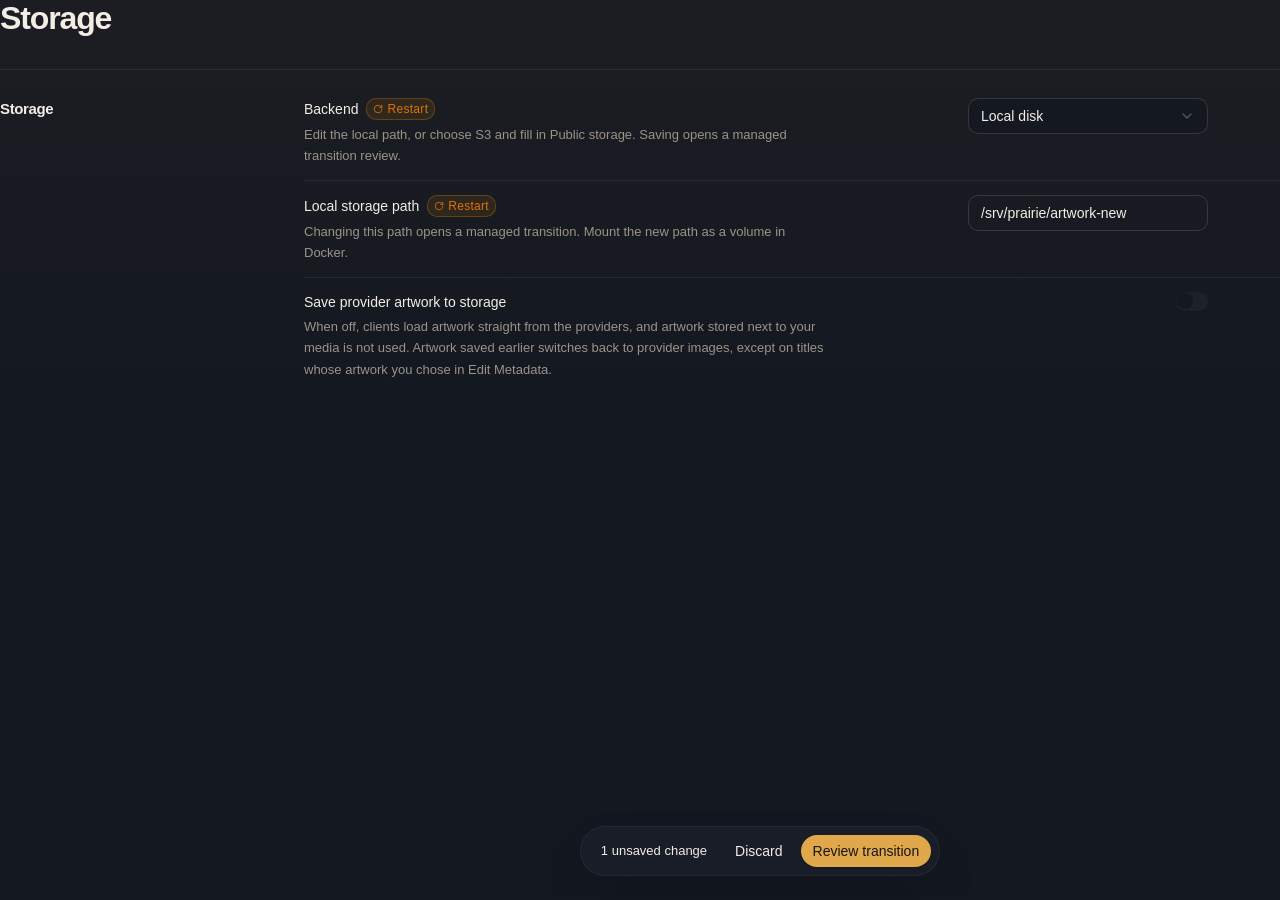
Test case: StorageSettings › describes private data when a local root moves without a private bucket
Click the button "Review transition": (866, 851) [801,835,931,867]
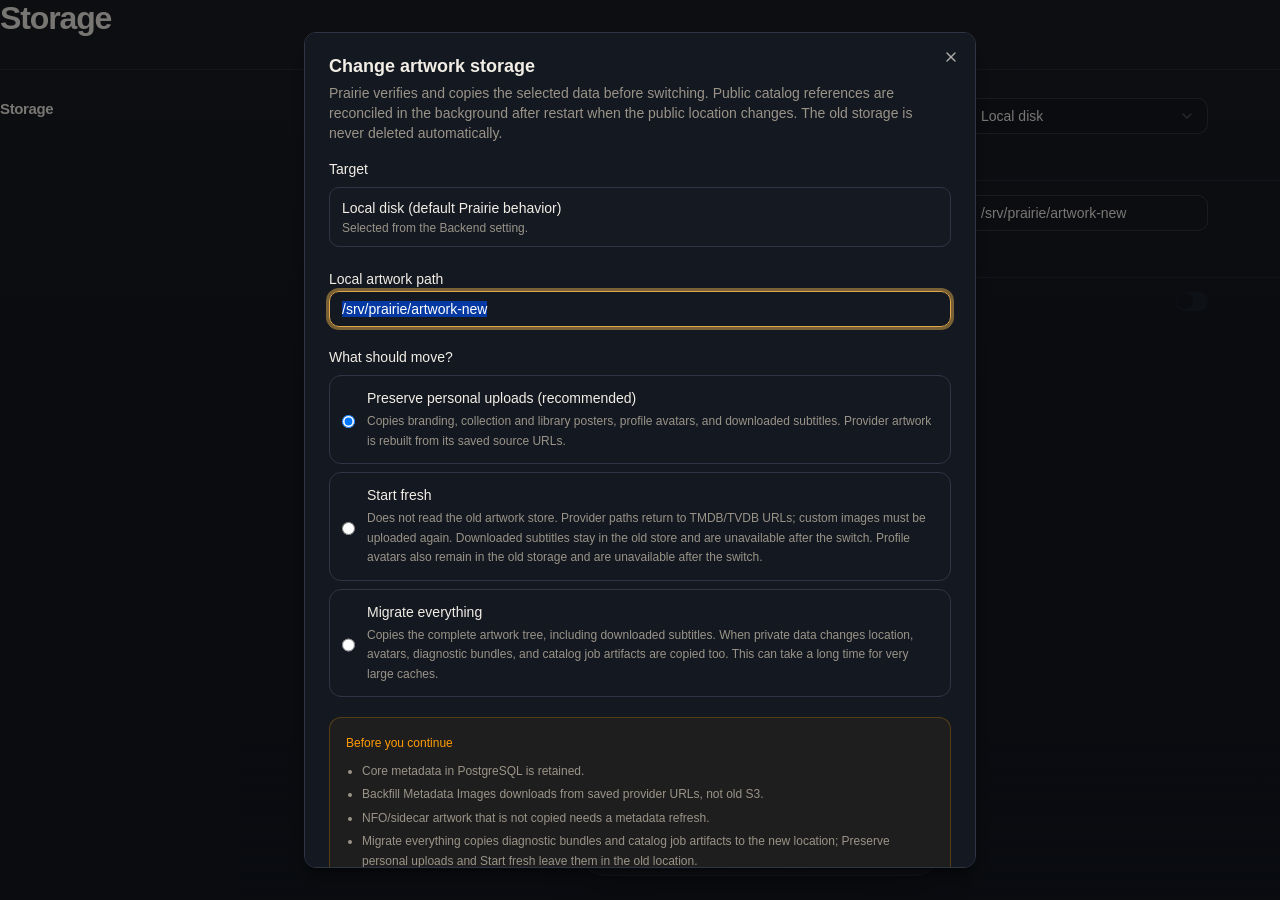
Check: the text "Copies branding, collection and library posters, profile avatars" is shown, box [367,414,931,448]
Check: the list item "Preserve personal uploads and Start fresh leave them in the old location" is shown, box [362,834,890,868]
Check: the label "Start fresh" shows "Profile avatars also remain in the old storage and are unavailable after the switch", box [367,511,926,564]
